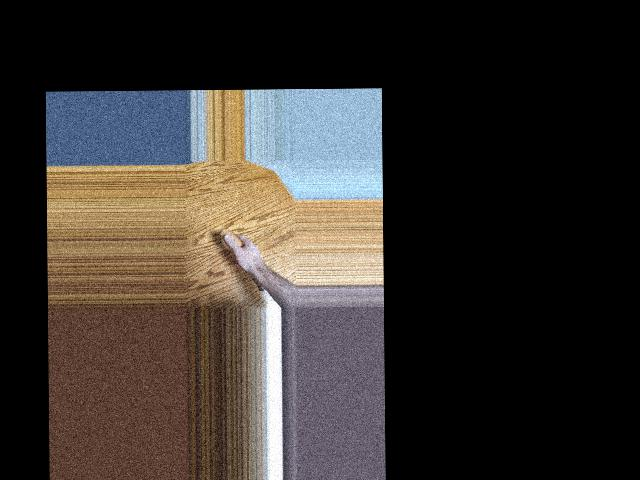sweet_potato: (219, 228, 265, 293)
